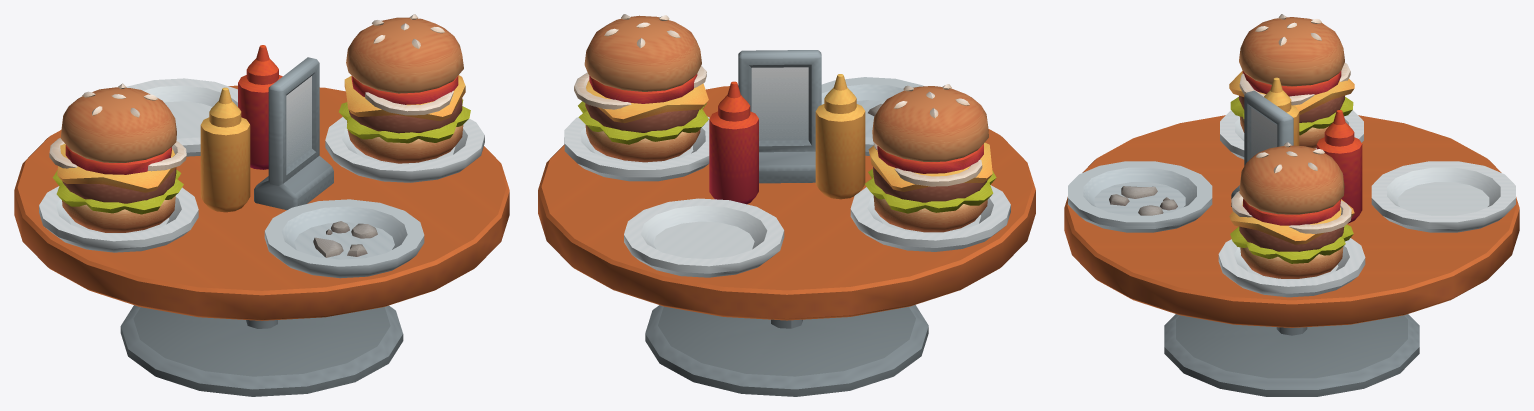
The model's file is table_round_A_decorated.gltf.
The picture shows the model from 3 angles, left to right: view 1: azimuth 30°, elevation 25°; view 2: azimuth 150°, elevation 25°; view 3: azimuth 270°, elevation 25°; orthographic projection. The views are drawn at different scales.
Visible parts, largest first — view 1: table_round_A_decorated; view 2: table_round_A_decorated; view 3: table_round_A_decorated.
Part boxes in pixels (x1,y1,x2,y2): table_round_A_decorated: (14, 14, 509, 396); table_round_A_decorated: (538, 14, 1035, 396); table_round_A_decorated: (1064, 14, 1519, 396).
Bounding box in the file's own units: 3 × 1.86 × 3.
1 material, 1 textured.
